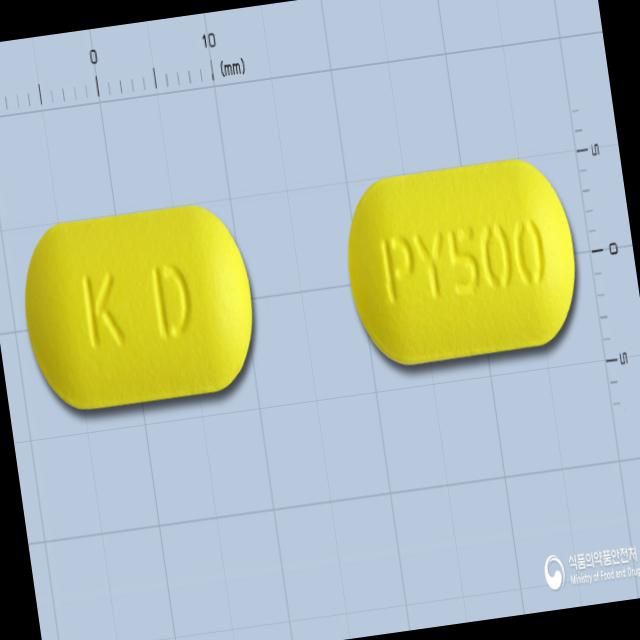Pyrocin Tab: (13, 195, 266, 417), (337, 151, 588, 370)
